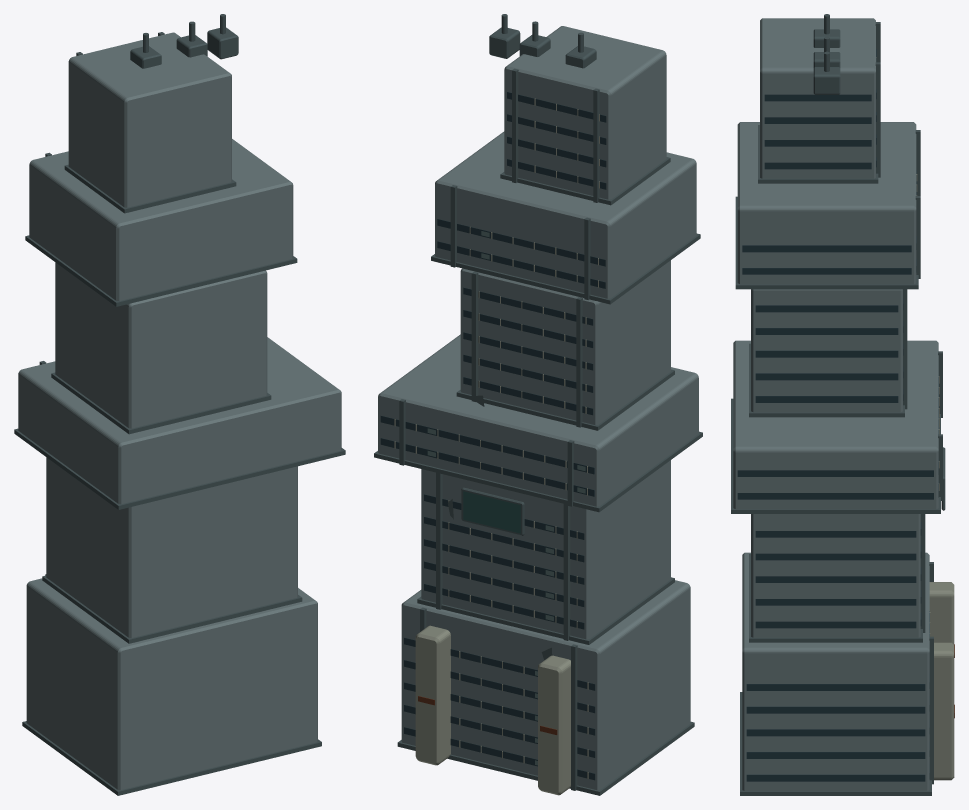
The model's file is megablock_civic.obj.
3 views of the same model, side by side, from view 1: azimuth 30°, elevation 25°; view 2: azimuth 150°, elevation 25°; view 3: azimuth 270°, elevation 25° (orthographic).
Parts seen in each view (by area): view 1: structural_mass, tier_lip, rooftop_equipment; view 2: structural_mass, recessed_front, podium_buttress, vertical_service_spines, tier_lip, window_separators, rooftop_equipment, runtime_billboard, facade_billboard, pale_window; view 3: structural_mass, recessed_side, tier_lip, podium_buttress, vertical_service_spines, rooftop_equipment, recessed_front.
Boxes of the visible parts, x1=… form: structural_mass: x1=18, y1=32, x2=341, y2=790; tier_lip: x1=14, y1=164, x2=345, y2=795; rooftop_equipment: x1=130, y1=27, x2=238, y2=68; structural_mass: x1=378, y1=26, x2=698, y2=790; recessed_front: x1=380, y1=92, x2=606, y2=780; podium_buttress: x1=415, y1=625, x2=570, y2=795; vertical_service_spines: x1=399, y1=68, x2=599, y2=790; tier_lip: x1=374, y1=157, x2=702, y2=795; window_separators: x1=394, y1=98, x2=599, y2=778; rooftop_equipment: x1=489, y1=27, x2=596, y2=68; runtime_billboard: x1=463, y1=491, x2=520, y2=533; facade_billboard: x1=461, y1=487, x2=524, y2=535; pale_window: x1=427, y1=231, x2=585, y2=765; structural_mass: x1=733, y1=18, x2=938, y2=790; recessed_side: x1=737, y1=94, x2=933, y2=781; tier_lip: x1=731, y1=125, x2=940, y2=795; podium_buttress: x1=929, y1=582, x2=954, y2=780; vertical_service_spines: x1=875, y1=22, x2=942, y2=784; rooftop_equipment: x1=813, y1=29, x2=840, y2=94; recessed_front: x1=876, y1=49, x2=938, y2=778.
Size of the model in its own units: 29.5 by 88.45 by 25.08.
